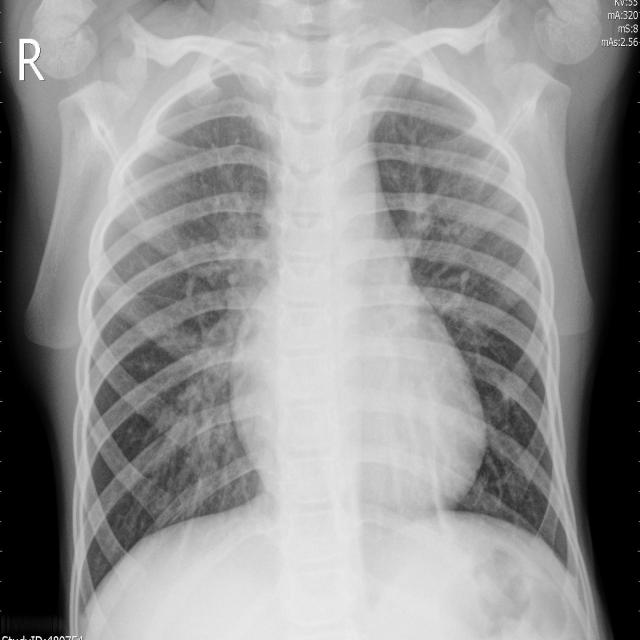low-pneumonia: (173, 218, 279, 464), (400, 160, 492, 275)
